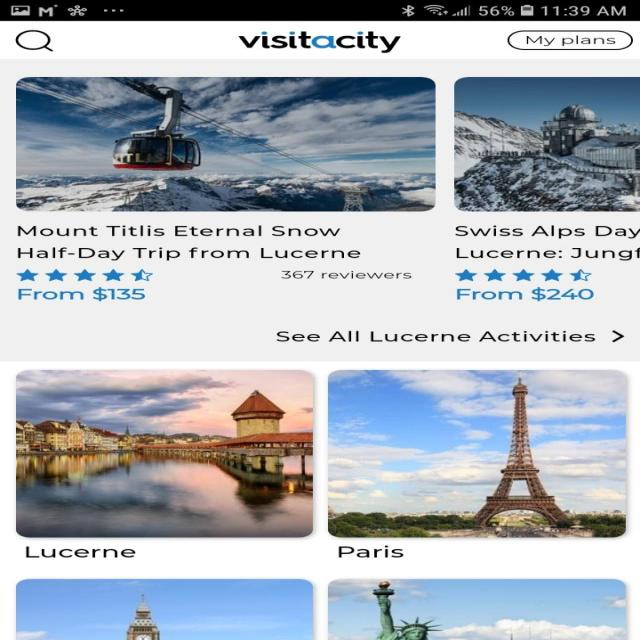Icon: (454, 268, 592, 281), (15, 268, 153, 281), (15, 30, 53, 52), (610, 329, 624, 342)
Image: (16, 76, 436, 212), (327, 370, 625, 538), (16, 370, 314, 538), (453, 77, 639, 212), (15, 578, 313, 640), (327, 578, 625, 640), (237, 31, 401, 53)
Text: (17, 225, 361, 260), (453, 225, 639, 260), (276, 331, 596, 342), (456, 287, 594, 301), (18, 287, 144, 301), (26, 546, 136, 558), (280, 270, 412, 279), (338, 545, 402, 557)
TextButton: (507, 30, 633, 50)
